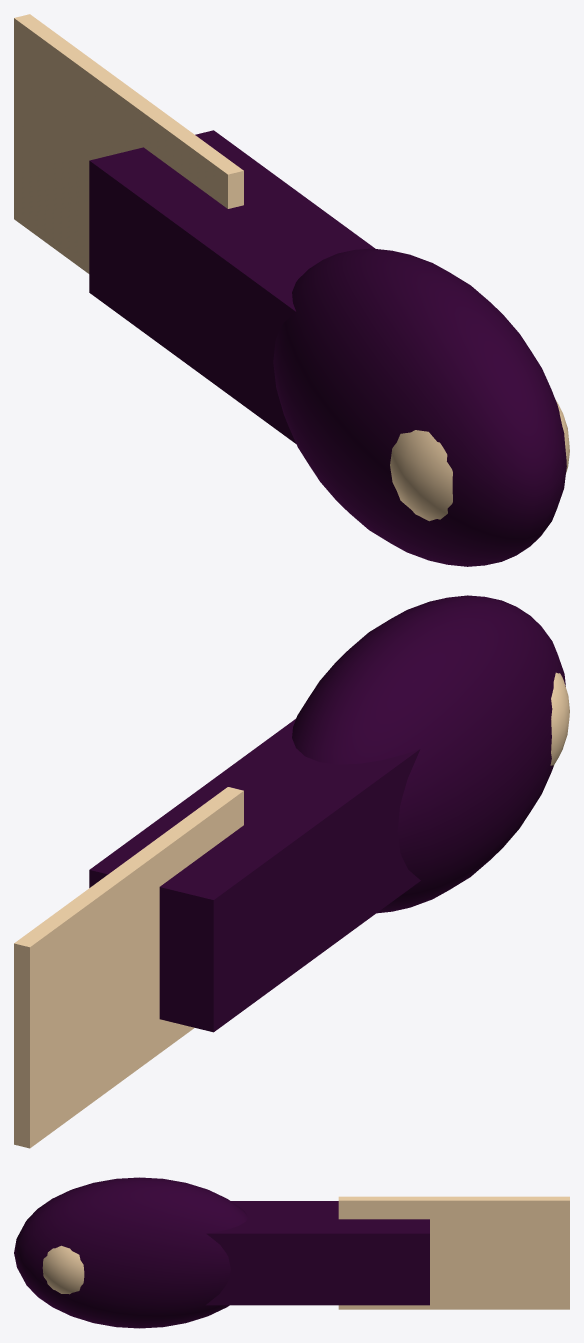
File: Fish_Minnow.fbx
The picture shows the model from 3 angles, top to bottom: view 1: azimuth 30°, elevation 25°; view 2: azimuth 150°, elevation 25°; view 3: azimuth 270°, elevation 25°; orthographic projection. The views are drawn at different scales.
Parts seen in each view (by area): view 1: Sphere, Cube__1_, Cube__2_, Sphere_1; view 2: Sphere, Cube__1_, Cube__2_, Sphere_1; view 3: Sphere, Cube__1_, Cube__2_, Sphere_1.
Part boxes in pixels (<box>): Sphere: <box>273,248,566,566</box>; Cube__1_: <box>89,130,375,443</box>; Cube__2_: <box>14,14,243,273</box>; Sphere_1: <box>390,400,569,521</box>; Sphere: <box>292,595,565,913</box>; Cube__1_: <box>89,719,420,1032</box>; Cube__2_: <box>14,787,243,1148</box>; Sphere_1: <box>550,672,569,766</box>; Sphere: <box>14,1177,248,1328</box>; Cube__1_: <box>206,1201,429,1305</box>; Cube__2_: <box>338,1196,569,1309</box>; Sphere_1: <box>42,1245,84,1294</box>.
Size of the model in its own units: 11.23 by 15.79 by 55.19.
